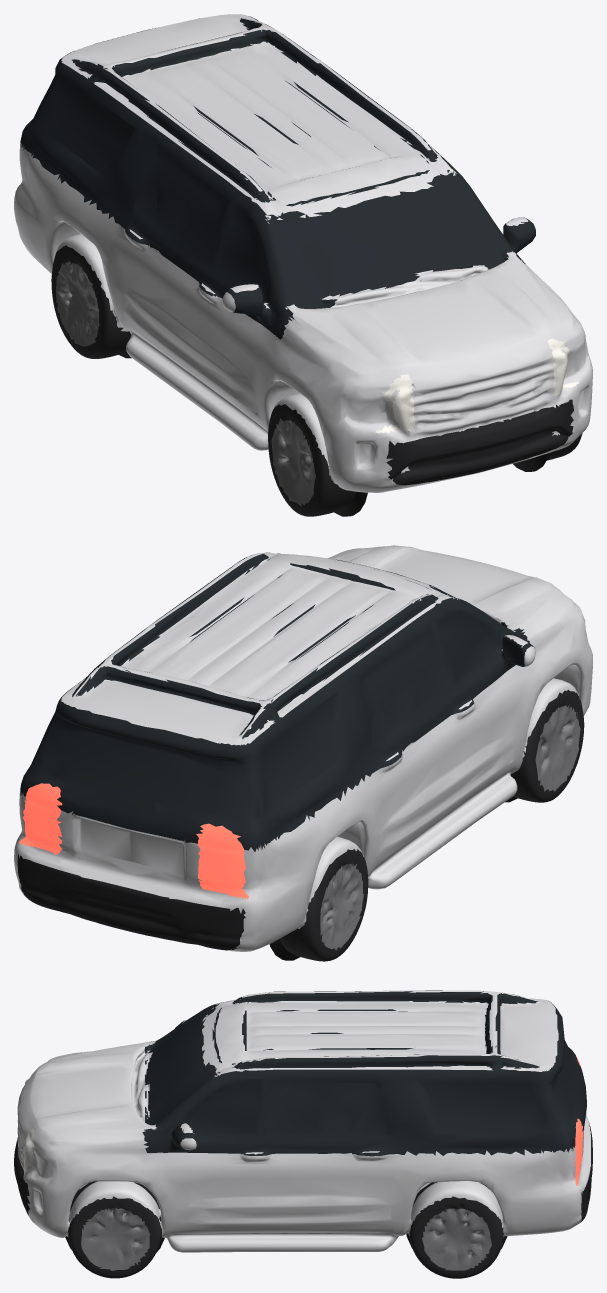
Rendered from BigSUV.fbx.
The picture shows the model from 3 angles, top to bottom: view 1: azimuth 30°, elevation 25°; view 2: azimuth 150°, elevation 25°; view 3: azimuth 270°, elevation 25°; orthographic projection. The views are drawn at different scales.
Visible parts, largest first — view 1: Body_Paint, Glass, Body_Trim, Wheel_FL_tyre, Wheel_RL_tyre, Wheel_FL_rim, Wheel_RL_rim, LightsFront; view 2: Body_Paint, Glass, Body_Trim, LightsRear, Wheel_RL_tyre, Wheel_FL_rim, Wheel_RL_rim, Wheel_FL_tyre; view 3: Body_Paint, Glass, Wheel_RR_rim, Wheel_FR_rim, Wheel_RR_tyre, Wheel_FR_tyre, Body_Trim, LightsRear.
Boxes of the visible parts, left/top/right/bottom form: Body_Paint: left=14, top=14, right=592, bottom=492; Glass: left=20, top=14, right=535, bottom=339; Body_Trim: left=386, top=399, right=573, bottom=485; Wheel_FL_tyre: left=268, top=404, right=356, bottom=516; Wheel_RL_tyre: left=51, top=245, right=131, bottom=358; Wheel_FL_rim: left=271, top=418, right=315, bottom=506; Wheel_RL_rim: left=56, top=261, right=99, bottom=346; LightsFront: left=375, top=338, right=579, bottom=434; Body_Paint: left=14, top=545, right=592, bottom=951; Glass: left=20, top=553, right=534, bottom=851; Body_Trim: left=17, top=615, right=502, bottom=950; LightsRear: left=19, top=783, right=248, bottom=899; Wheel_RL_tyre: left=280, top=849, right=368, bottom=961; Wheel_FL_rim: left=520, top=704, right=580, bottom=791; Wheel_RL_rim: left=320, top=863, right=363, bottom=950; Wheel_FL_tyre: left=510, top=689, right=584, bottom=802; Body_Paint: left=17, top=990, right=590, bottom=1252; Glass: left=142, top=990, right=586, bottom=1156; Wheel_RR_rim: left=422, top=1208, right=491, bottom=1270; Wheel_FR_rim: left=81, top=1208, right=149, bottom=1270; Wheel_RR_tyre: left=409, top=1196, right=503, bottom=1278; Wheel_FR_tyre: left=68, top=1196, right=161, bottom=1278; Body_Trim: left=14, top=1123, right=592, bottom=1221; LightsRear: left=575, top=1056, right=583, bottom=1186.
Size of the model in its own units: 975 by 811 by 2000.
